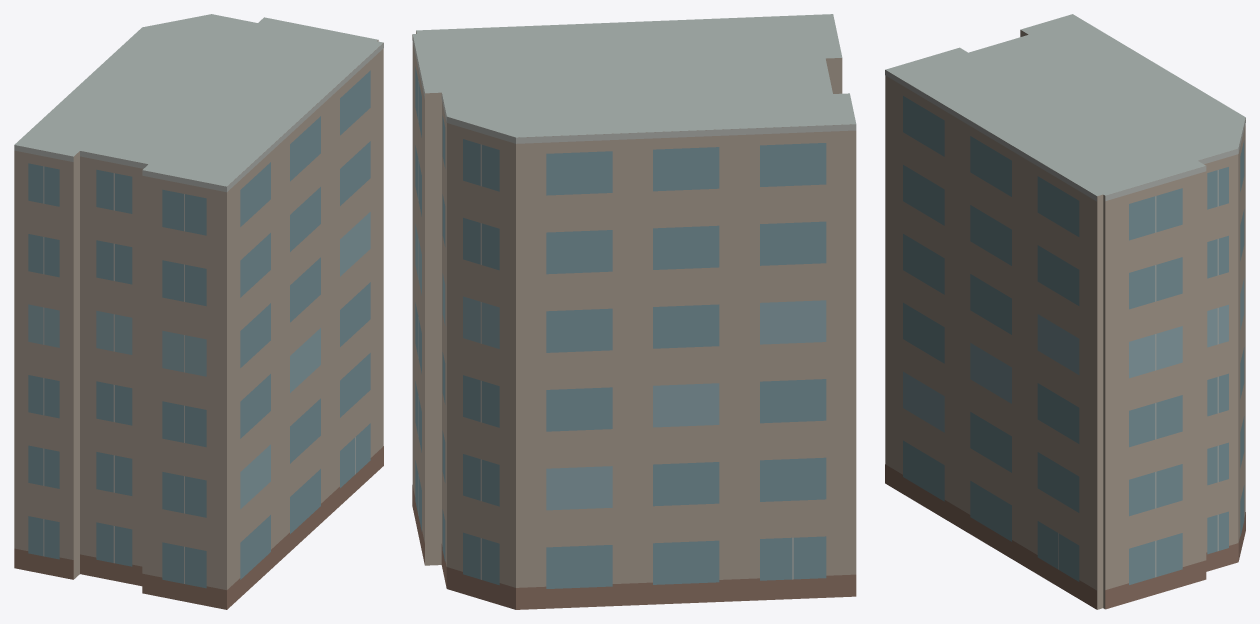
Rendered from survey-upis-32961019.glb.
3 views of the same model, side by side, from view 1: azimuth 30°, elevation 25°; view 2: azimuth 150°, elevation 25°; view 3: azimuth 270°, elevation 25° (orthographic). The views are drawn at different scales.
Parts seen in each view (by area): view 1: survey-upis-32961019.tmp; view 2: survey-upis-32961019.tmp; view 3: survey-upis-32961019.tmp.
Boxes of the visible parts, x1,y1,x2,y2 form: survey-upis-32961019.tmp: (14,14,383,609); survey-upis-32961019.tmp: (412,14,856,609); survey-upis-32961019.tmp: (885,14,1245,609).
Bounding box in the file's own units: 17.3 × 18.3 × 14.47.
